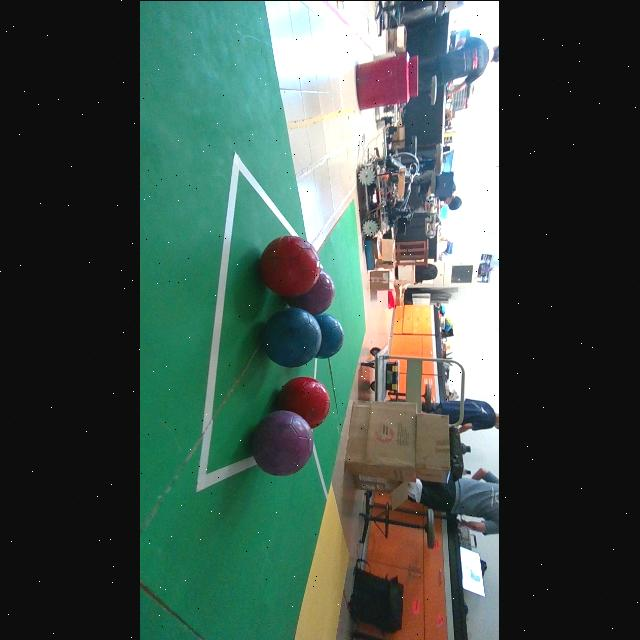B: (262, 306, 322, 366), (316, 313, 345, 357)
P: (252, 410, 314, 475), (287, 268, 336, 315)
R: (260, 235, 321, 296), (278, 376, 331, 427)
